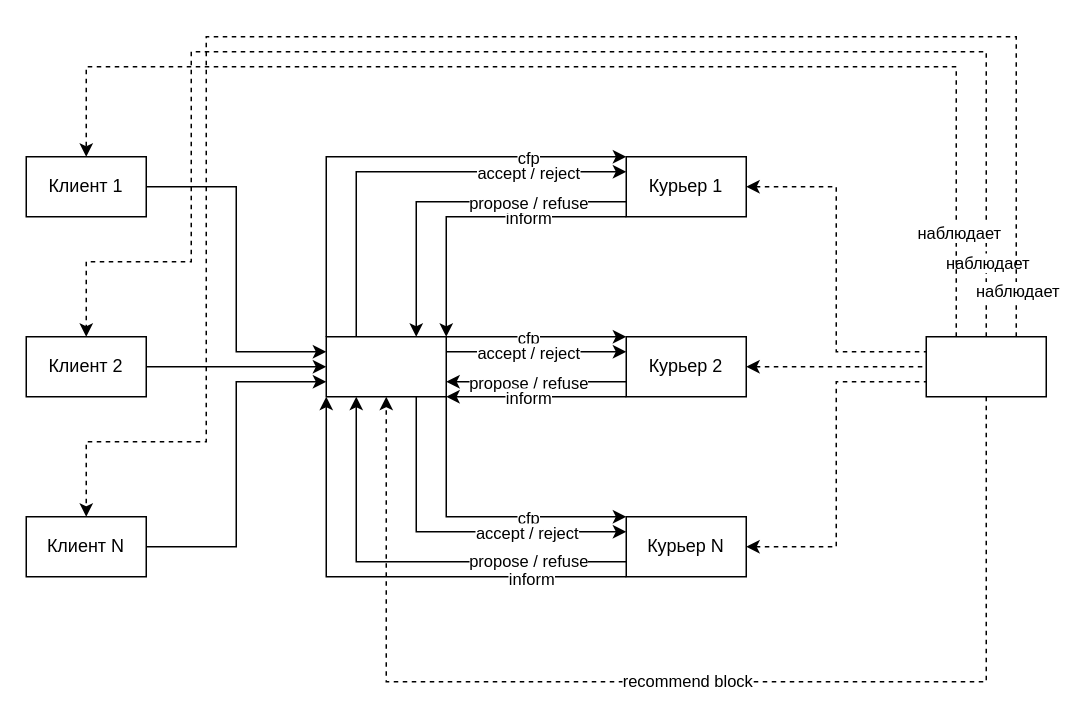
Some shapes in this 1085 by 720 pixel diagram are drawn without their labels. The centre of each missing label's shape, as x and y in pixels:
Аудитор: the point at 985,366
Диспетчер: the point at 385,366
